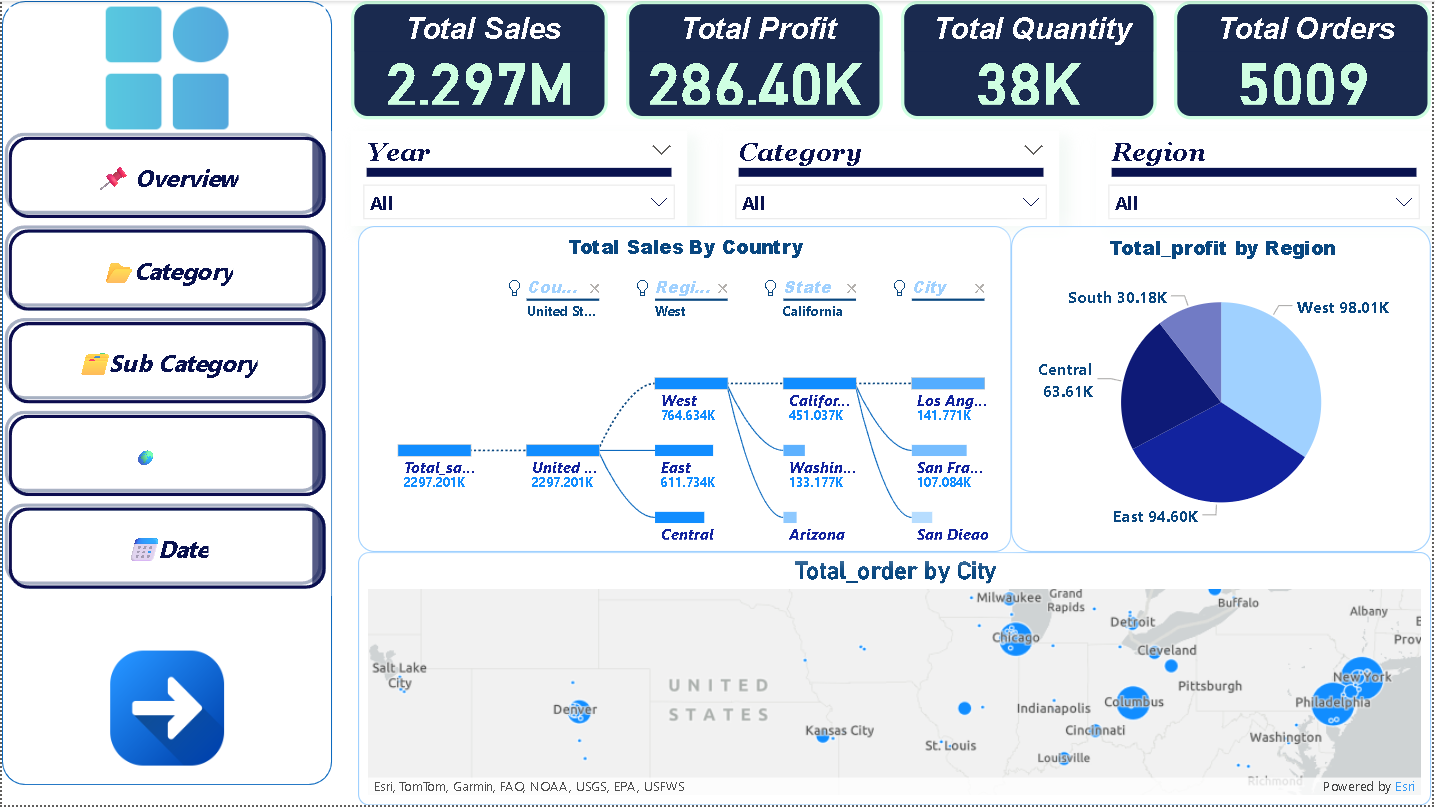

What the dashboard file says about the page in this screenshot:
{"tool":"powerbi","page":{"name":"🌍Region","canvas":[1280,720],"ordinal":3},"visuals":[{"type":"group","id":"g1","title":"Group 1","box":[0,0,295.6,702.1],"z":0},{"type":"shape","title":"📈","box":[0,0,295.6,702.1],"z":0,"group":"g1"},{"type":"image","box":[0.9,0,294.4,119.7],"z":1000},{"type":"image","box":[0.9,576.4,294.4,112.6],"z":2000},{"type":"card","title":"Total Sales","fields":{"Values":["DAX Measure.Total_sales"]},"box":[312.5,0,230.4,106],"z":3000},{"type":"card","title":"Total Orders","fields":{"Values":["DAX Measure.Total_order"]},"box":[1049.6,0,230.4,106],"z":4000},{"type":"card","title":"Total Profit","fields":{"Values":["DAX Measure.Total_profit"]},"box":[558.6,0,230.4,106],"z":5000},{"type":"card","title":"Total Quantity","fields":{"Values":["DAX Measure.Total_quantity"]},"box":[804.7,0,229.2,106],"z":6000},{"type":"slicer","fields":{"Values":["DateDim.Order Date.Variation.Date Hierarchy.Year"]},"box":[312.1,116.2,300.6,85.1],"z":7000},{"type":"slicer","fields":{"Values":["ProductDim.Category"]},"box":[646,116.2,300.6,85.1],"z":8000},{"type":"pageNavigator","box":[1.2,116.4,294.4,416.3],"z":8000,"group":"g1"},{"type":"slicer","fields":{"Values":["CustomerDim.Region"]},"box":[979.4,116.2,300.6,85.1],"z":9000},{"type":"esriVisual","fields":{"Location":["CustomerDim.City"],"Size":["DAX Measure.Total_order"]},"box":[319,493.1,961,226.6],"z":10000},{"type":"decompositionTreeVisual","title":"Total Sales By Country","fields":{"Analyze":["DAX Measure.Total_sales"],"ExplainBy":["CustomerDim.Country","CustomerDim.Region","CustomerDim.State","CustomerDim.City"]},"box":[319,201.3,584.6,291.8],"z":11000},{"type":"pieChart","fields":{"Category":["CustomerDim.Region"],"Y":["DAX Measure.Total_profit"]},"box":[903.6,201.3,376.4,291.8],"z":12000}]}

Visuals, with their boxes in screenshot pixels (x1, y1, x2, y2), scaled from the page's 1280x720 canvas onto the 1435x808 screenshot:
"Group 1" group: select_region(0, 0, 331, 788)
"📈" shape: select_region(0, 0, 331, 788)
image: select_region(1, 0, 331, 134)
image: select_region(1, 647, 331, 773)
"Total Sales" card: select_region(350, 0, 609, 119)
"Total Orders" card: select_region(1177, 0, 1434, 119)
"Total Profit" card: select_region(626, 0, 885, 119)
"Total Quantity" card: select_region(902, 0, 1159, 119)
slicer - DateDim.Order Date.Variation.Date Hierarchy.Year: select_region(350, 130, 687, 226)
slicer - ProductDim.Category: select_region(724, 130, 1061, 226)
pageNavigator: select_region(1, 131, 331, 598)
slicer - CustomerDim.Region: select_region(1098, 130, 1434, 226)
esriVisual - CustomerDim.City x DAX Measure.Total_order: select_region(358, 553, 1434, 807)
"Total Sales By Country" decompositionTreeVisual: select_region(358, 226, 1013, 553)
pieChart - CustomerDim.Region x DAX Measure.Total_profit: select_region(1013, 226, 1434, 553)
